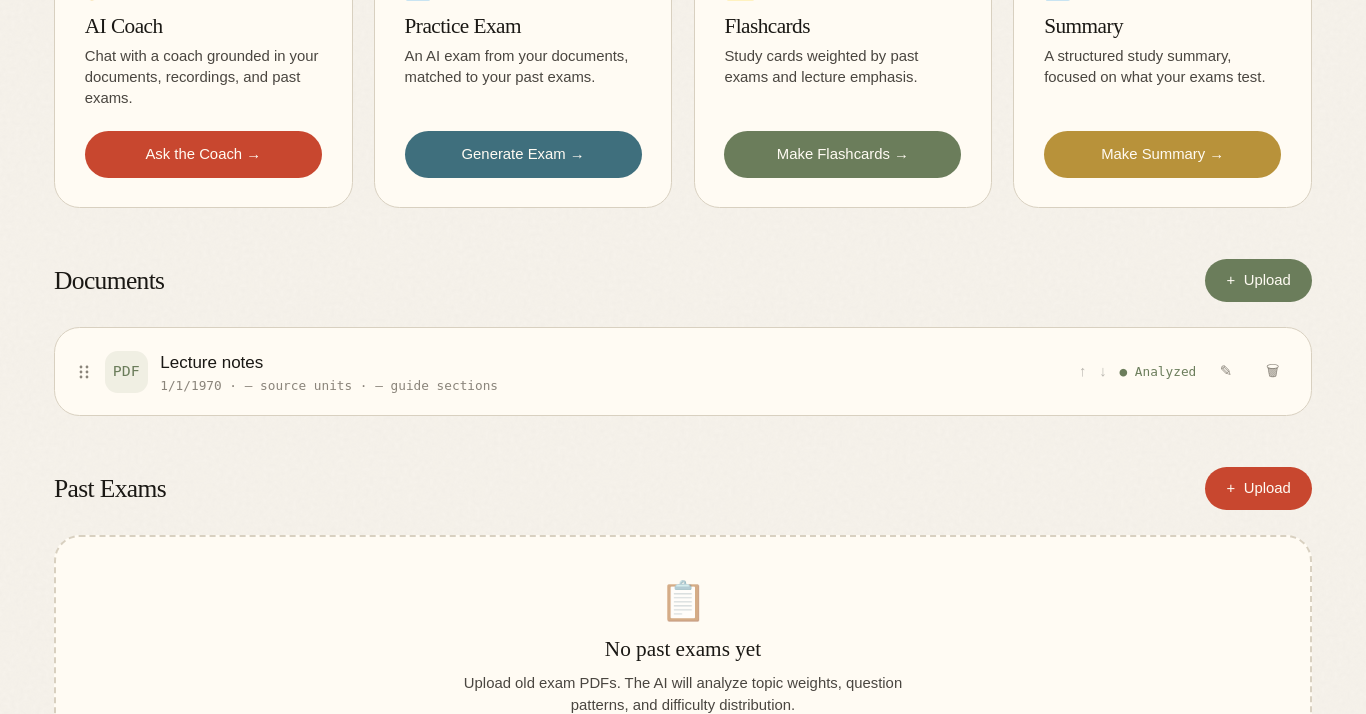
Scenario: course document foundation › keeps document reading and deletion available and locks again after deleting the foundation
(page scrolled)
Check: the link "Generate Exam →" is shown, box x1=405 y1=131 x2=642 y2=178
Check: the button "Lecture notes 1/1/1970 · — source units · — guide sections" is shown, box x1=160 y1=352 x2=498 y2=393
Click the button named "Delete" at coordinates (1273, 372), box x1=1256 y1=355 x2=1290 y2=389
(page scrolled)
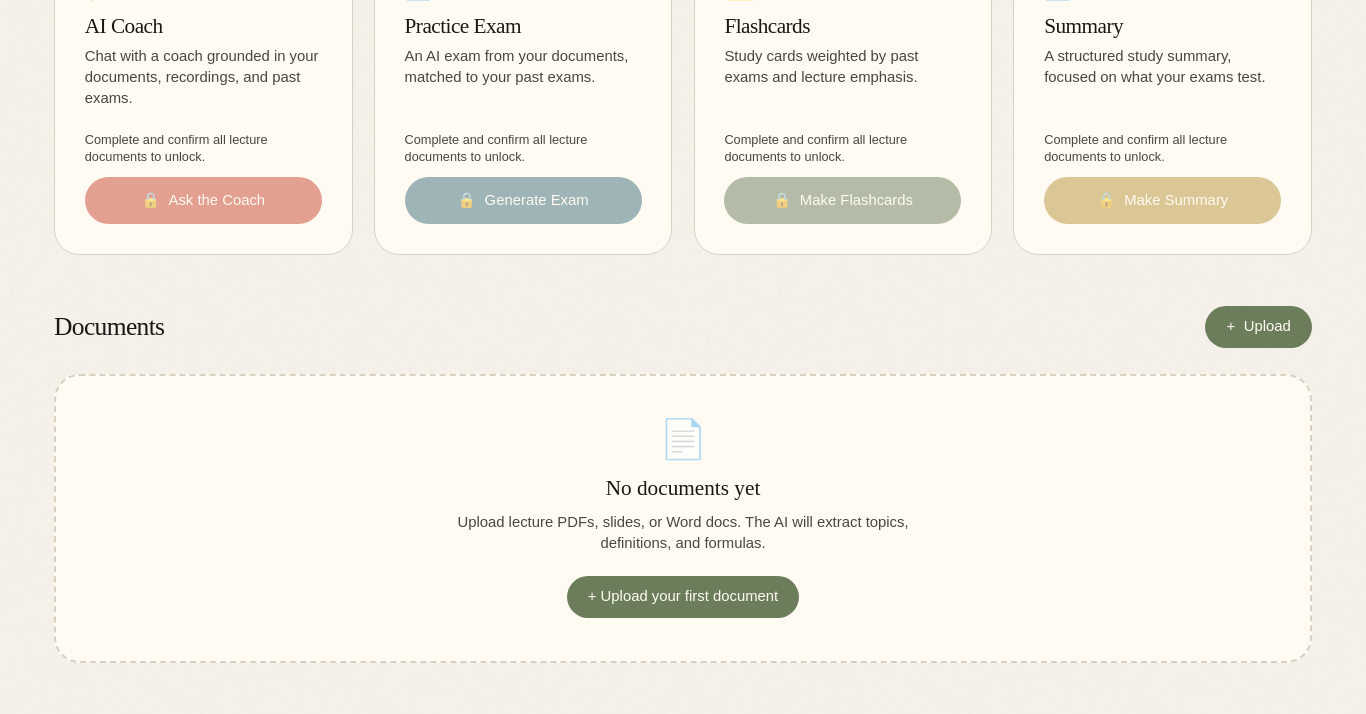
Check: the button "Lecture notes" is gone
Check: the button "🔒 Generate Exam" is shown, box x1=405 y1=177 x2=642 y2=224
